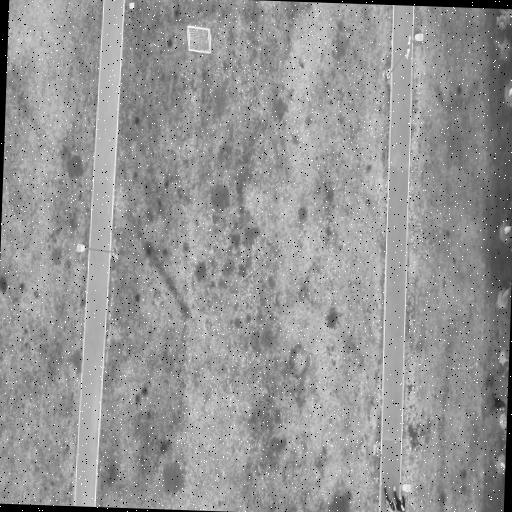person: (383, 482, 394, 511), (392, 486, 404, 511), (490, 392, 504, 411), (499, 461, 504, 469)
